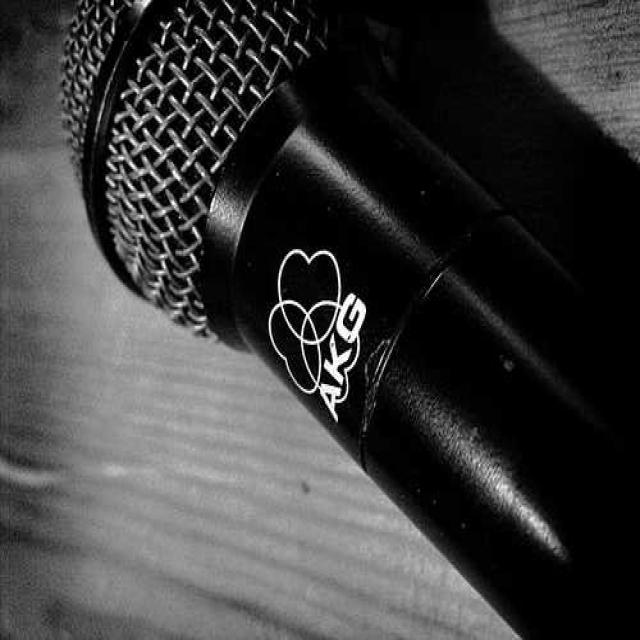microphone: (90, 12, 600, 616)
